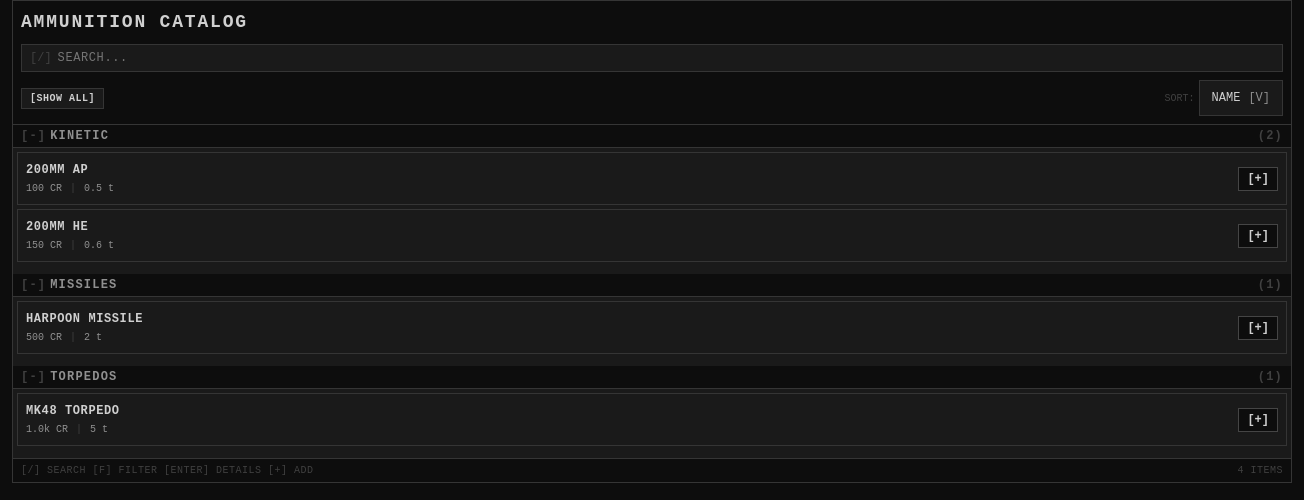
AmmunitionBrowser › sorting › changes sort order
Custom combobox: click to open, click the option
Click the dropdown named "Sort ammunition by". click: coordinates (1241, 98)
box: [1199,80,1283,116]
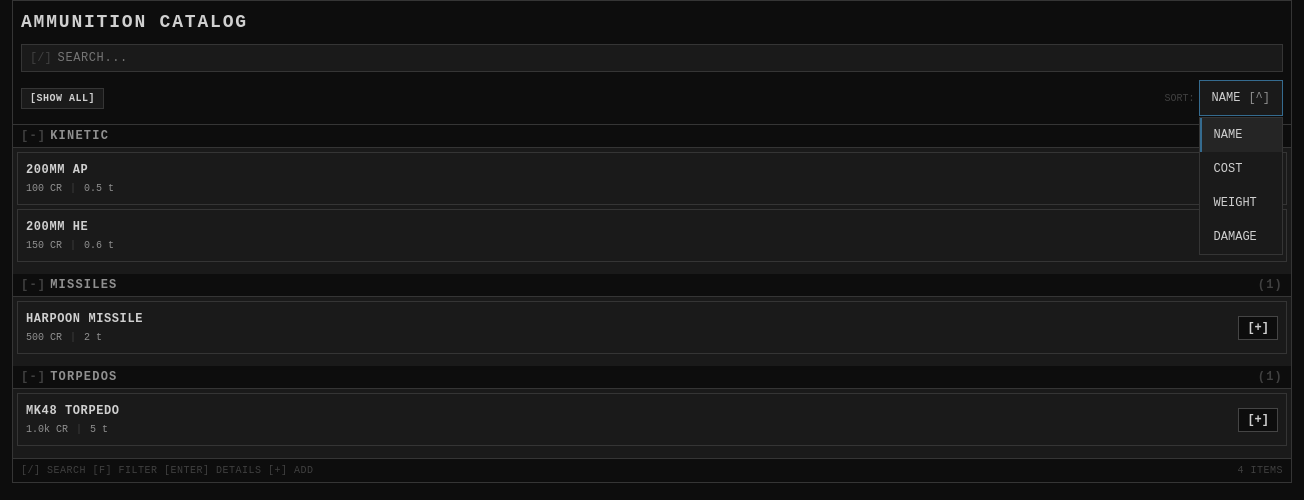
Click the option "COST". click: coordinates (1228, 169)
box: [1214,162,1242,176]
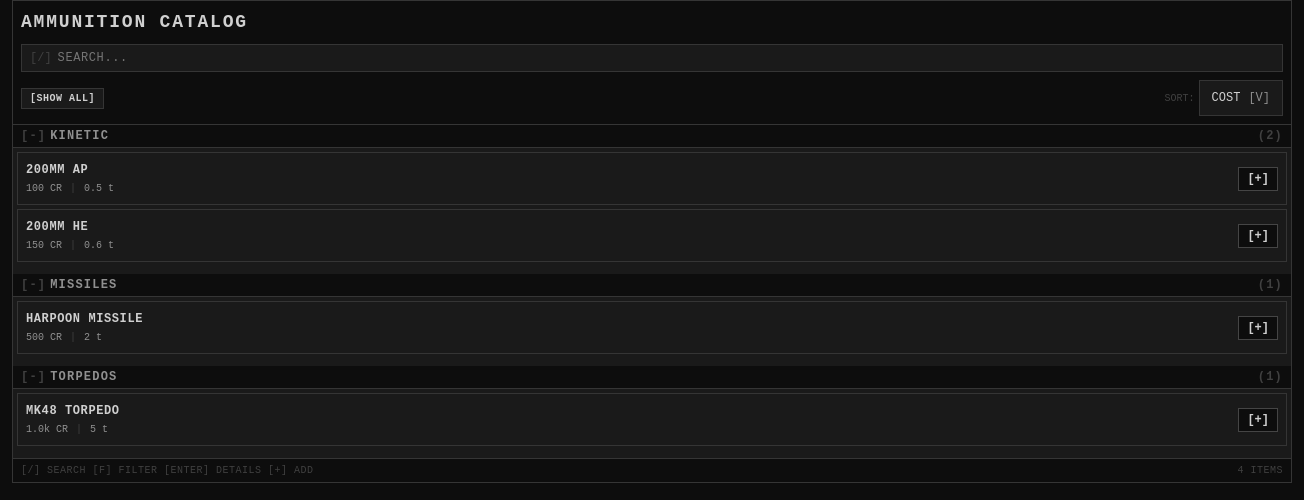
Expected: the text "COST" is shown, [1212,89,1240,107]
